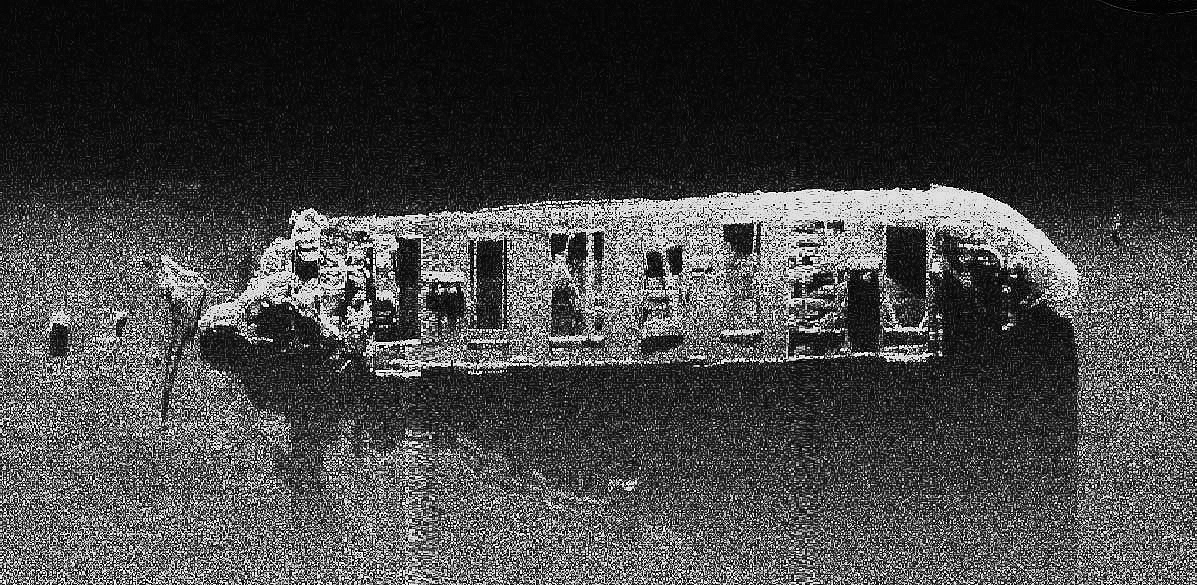ship: (189, 187, 1091, 425)
